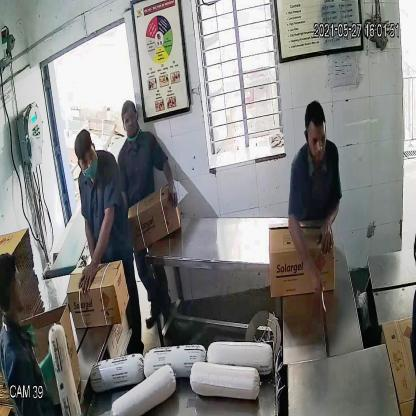no_goggles: (74, 146, 99, 170), (303, 129, 330, 151)
